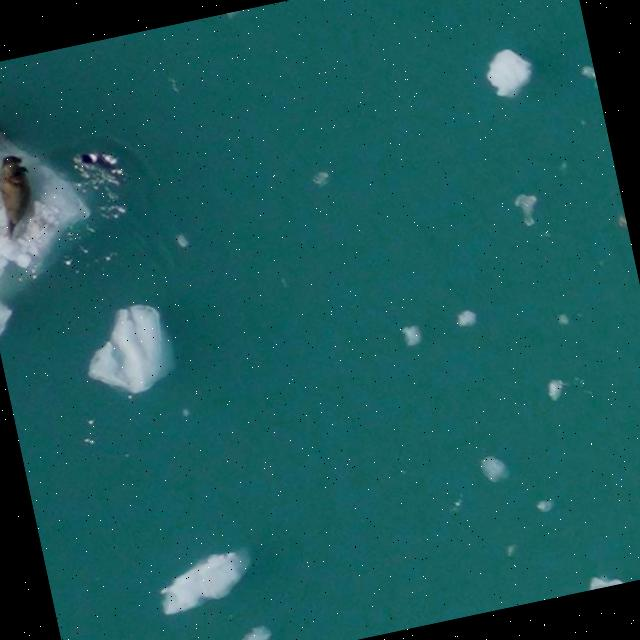seal: (0, 155, 31, 238)
